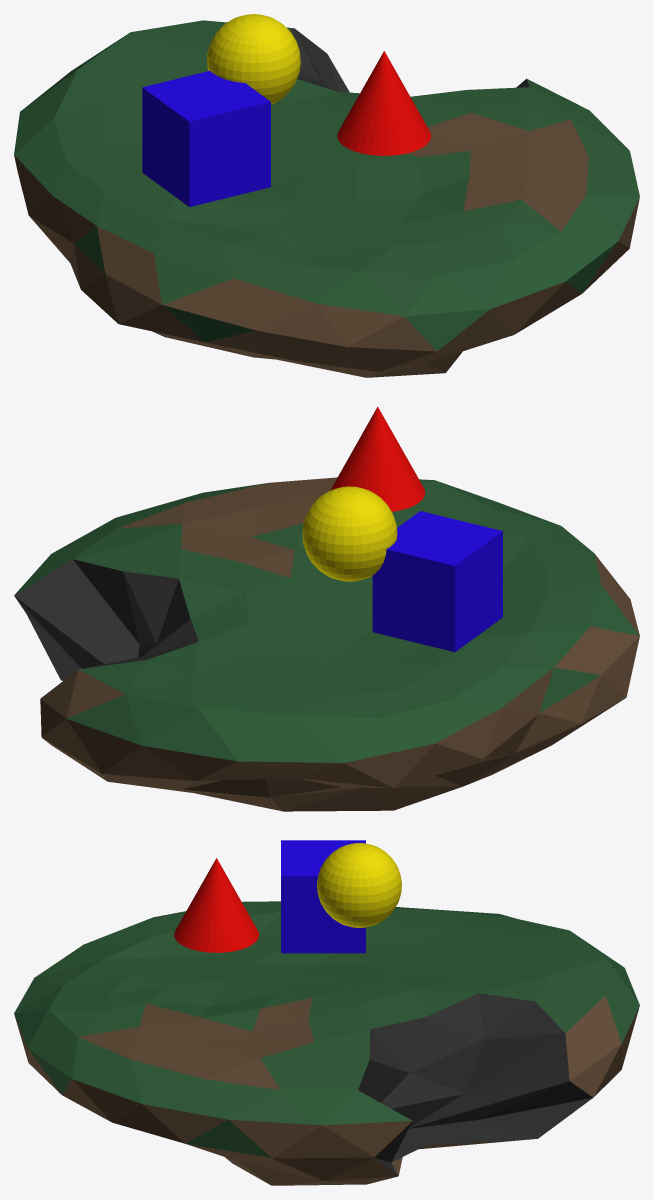
The model's file is island.glb.
The picture shows the model from 3 angles, top to bottom: view 1: azimuth 30°, elevation 25°; view 2: azimuth 150°, elevation 25°; view 3: azimuth 270°, elevation 25°; orthographic projection. The views are drawn at different scales.
Visible parts, largest first — view 1: Icosphere.015, Cube, Sphere, Cone; view 2: Icosphere.015, Cube, Sphere, Cone; view 3: Icosphere.015, Cube, Sphere, Cone.
Boxes of the visible parts, x1,y1,x2,y2 form: Icosphere.015: (14, 20, 639, 377); Cube: (142, 71, 270, 206); Sphere: (207, 14, 300, 104); Cone: (337, 51, 431, 155); Icosphere.015: (14, 477, 639, 811); Cube: (372, 511, 502, 651); Sphere: (302, 486, 397, 581); Cone: (330, 407, 425, 511); Icosphere.015: (14, 901, 639, 1185); Cube: (281, 840, 365, 953); Sphere: (317, 843, 401, 927); Cone: (174, 858, 258, 952).
Size of the model in its own units: 25.49 by 14.61 by 29.41.
